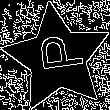P_W: (30, 36, 85, 80)
